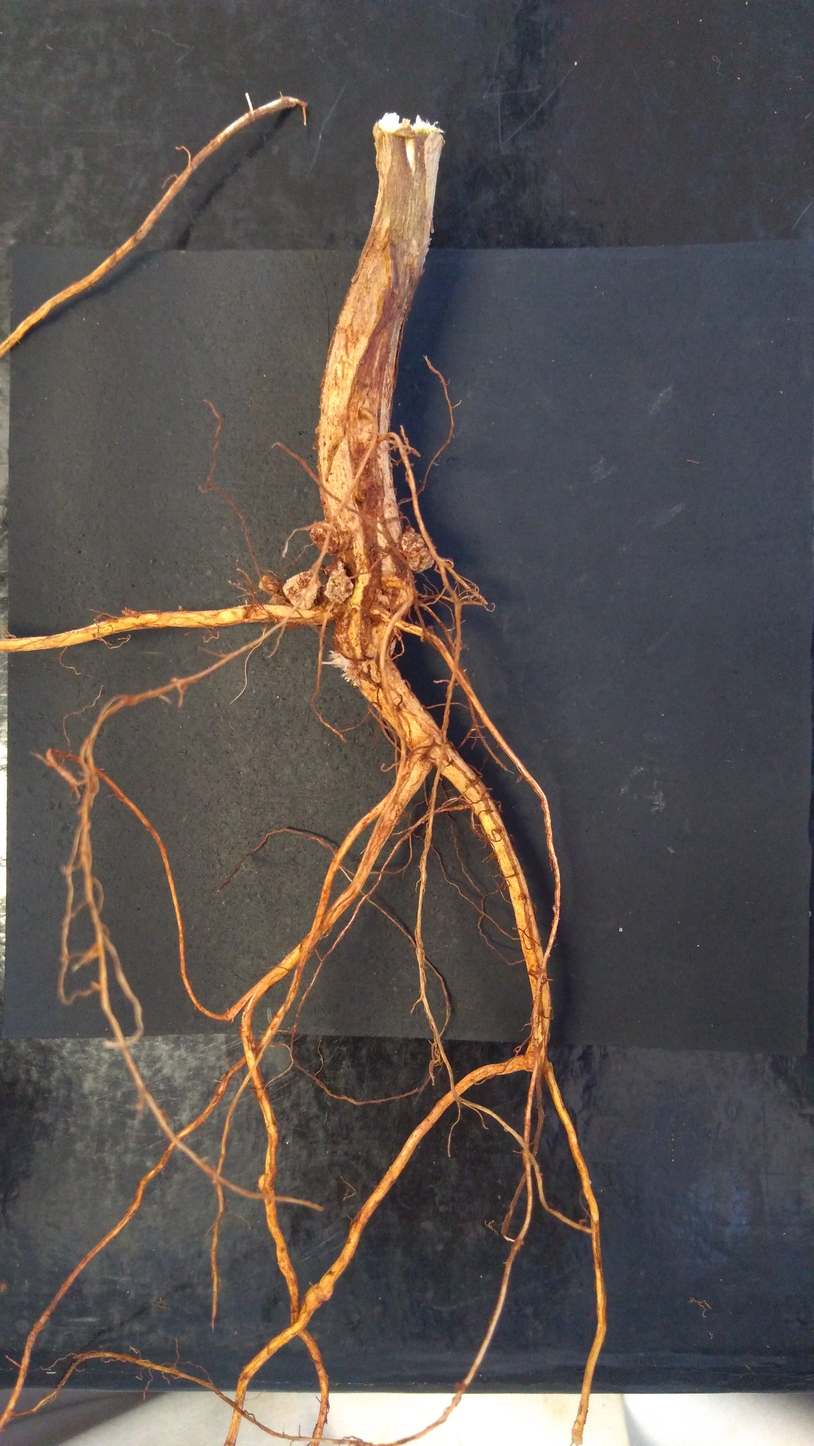nodule: (281, 570, 322, 611), (400, 527, 435, 574), (365, 620, 399, 659), (324, 560, 354, 604), (309, 522, 340, 556), (375, 583, 409, 614), (360, 659, 382, 685), (258, 575, 279, 595), (268, 593, 287, 607), (257, 1173, 269, 1192), (121, 607, 139, 618), (178, 605, 183, 610)
